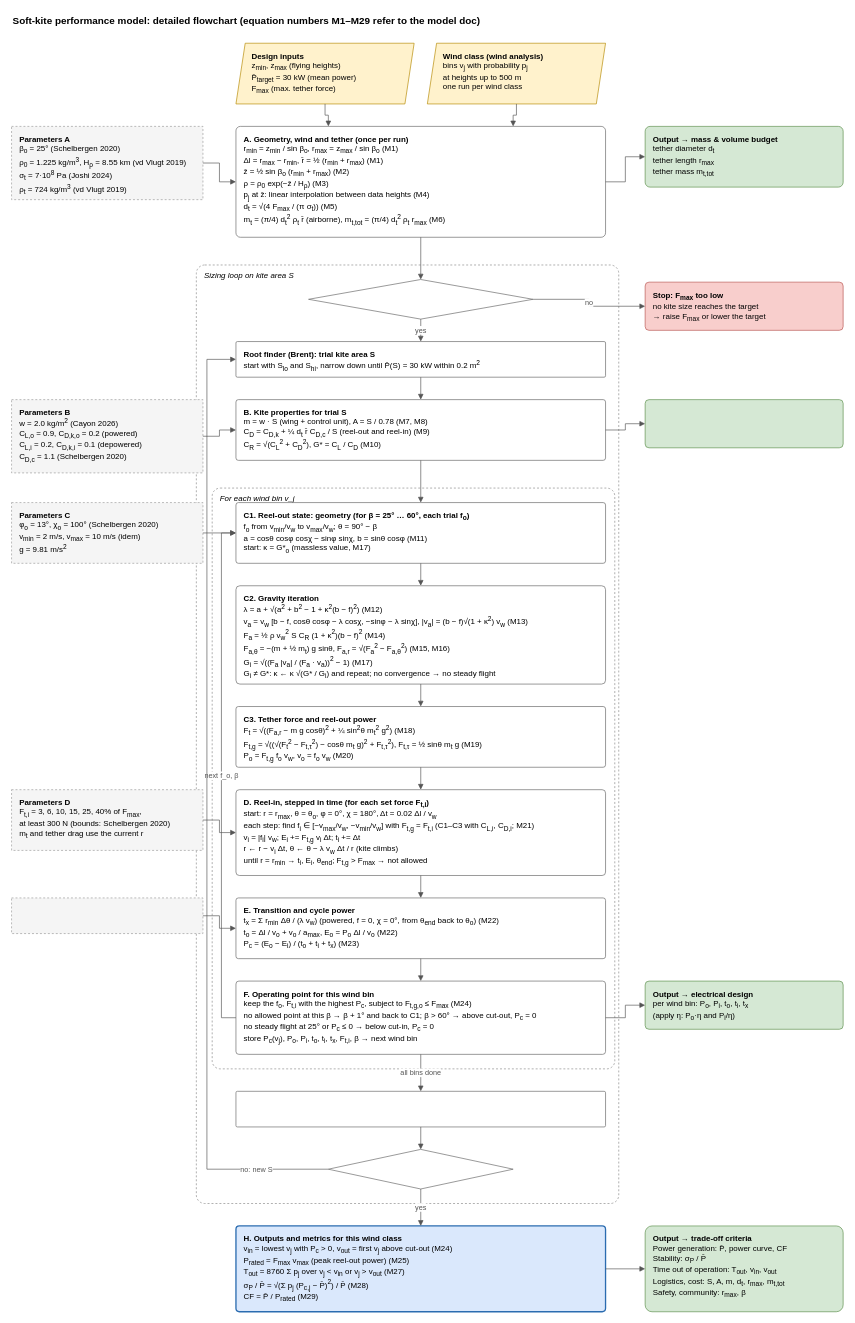
The diagram is 855 pixels wide and 1323 high, and some of its shapes have lost their labels. The shapes that lost their labels are listed below. From the top down, each one's centre as x and y in pixels, then its label:
At point (420, 299): "Mean power at the largest allowed area S hi ≥ 30 kW?".
At point (743, 423): "Output → mass & volume budget projected area S, flat area A airborne mass m".
At point (107, 915): "Parameters E a max = 5 m/s 2 (Joshi 2024)".
At point (420, 1109): "G. Mean power over the wind class P̄(S) = Σ j p j P c (v j ) (M26)".
At point (420, 1169): "P̄(S) = 30 kW?".
